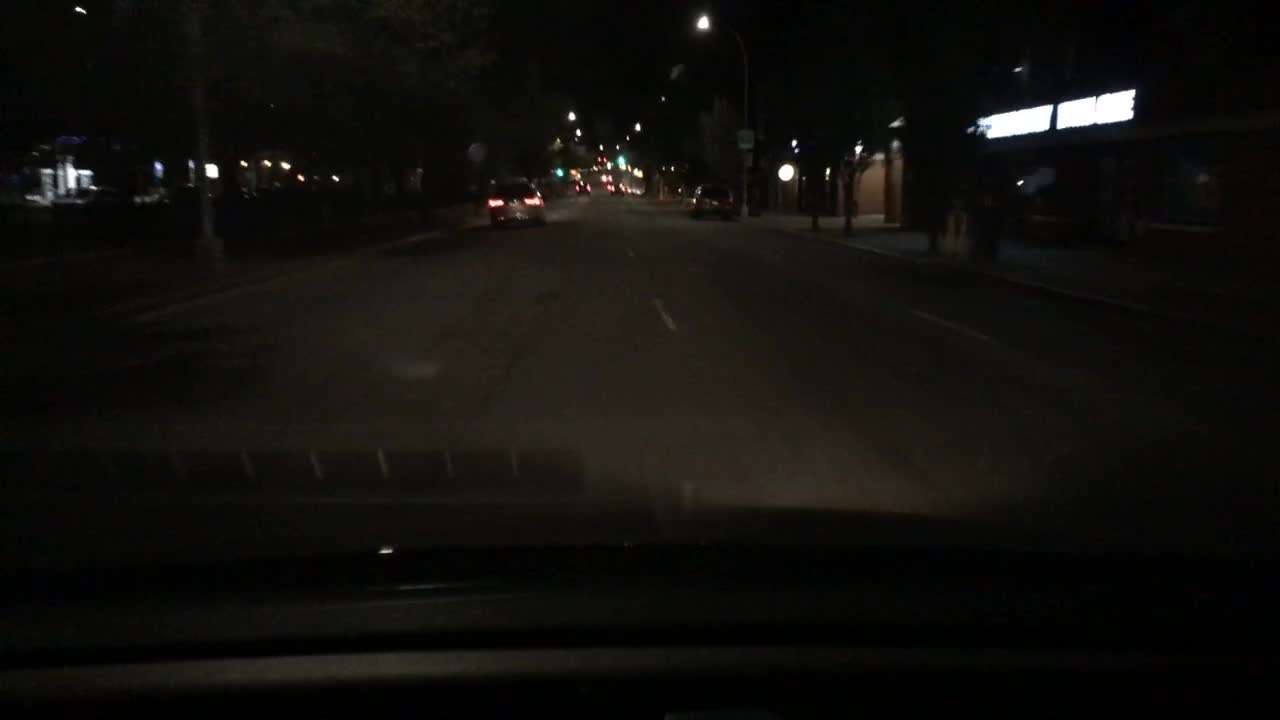car: (486, 174, 547, 231), (50, 182, 120, 213), (688, 181, 734, 221), (130, 184, 169, 209), (167, 181, 200, 202), (235, 185, 256, 199), (574, 179, 592, 195), (608, 180, 627, 194), (567, 167, 582, 182), (600, 172, 612, 185)
person: (968, 149, 1018, 259), (1109, 154, 1150, 258)
traffic sign: (735, 125, 756, 148)
